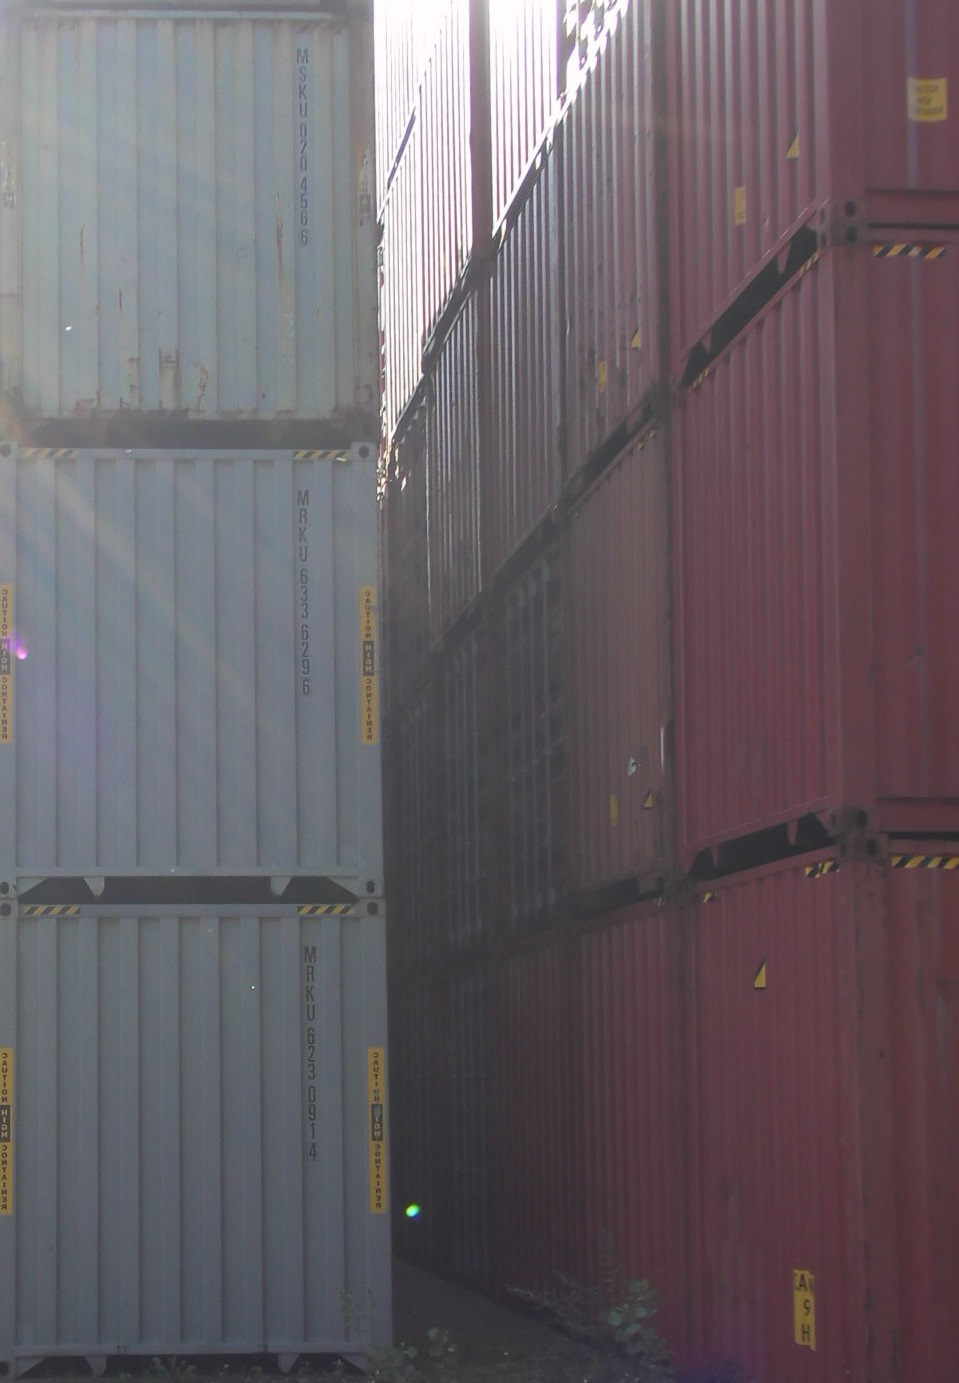container_no_door: (1, 905, 385, 1367), (1, 441, 385, 903), (9, 1, 379, 438), (681, 861, 863, 1382), (665, 335, 847, 856), (550, 465, 677, 906), (557, 920, 684, 1361)
